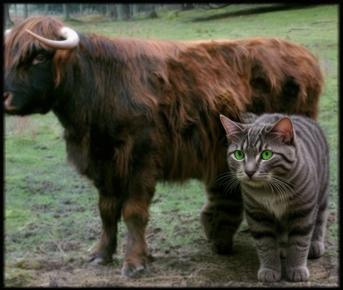cat: (200, 110, 329, 281)
cow: (6, 16, 323, 278)
